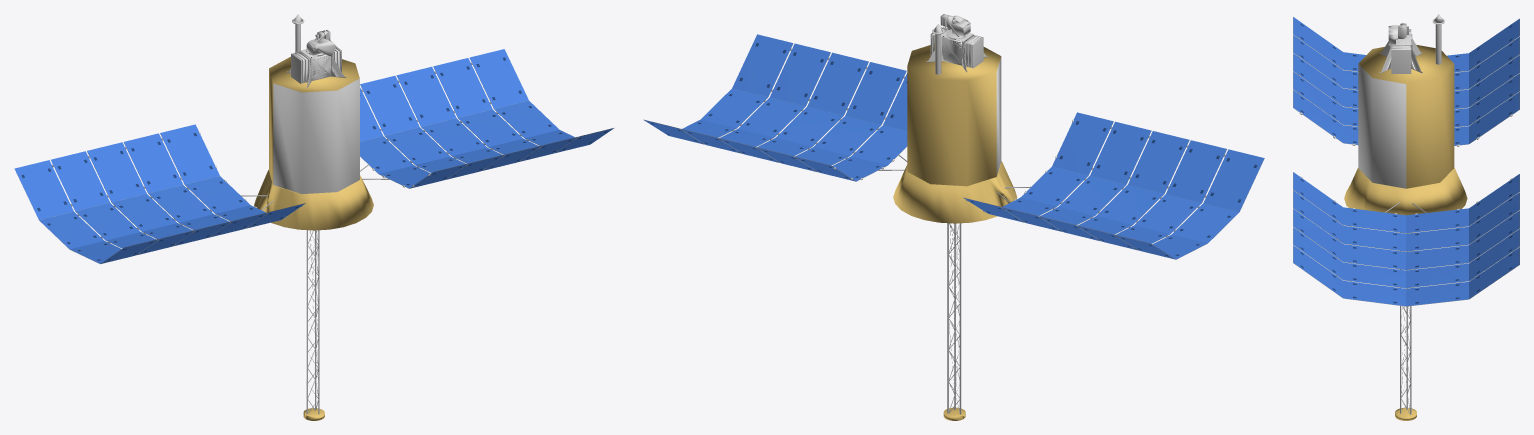
Rendered from SAC-C.glb.
The picture shows the model from 3 angles, left to right: view 1: azimuth 30°, elevation 25°; view 2: azimuth 150°, elevation 25°; view 3: azimuth 270°, elevation 25°; orthographic projection. The views are drawn at different scales.
Parts seen in each view (by area): view 1: Fake; view 2: Fake; view 3: Fake.
Part boxes in pixels (box(x1,y1,x2,y2)): Fake: box(14, 14, 613, 420); Fake: box(643, 14, 1264, 420); Fake: box(1293, 14, 1519, 420).
Bounding box in the file's own units: 60.24 × 45.9 × 23.46.
